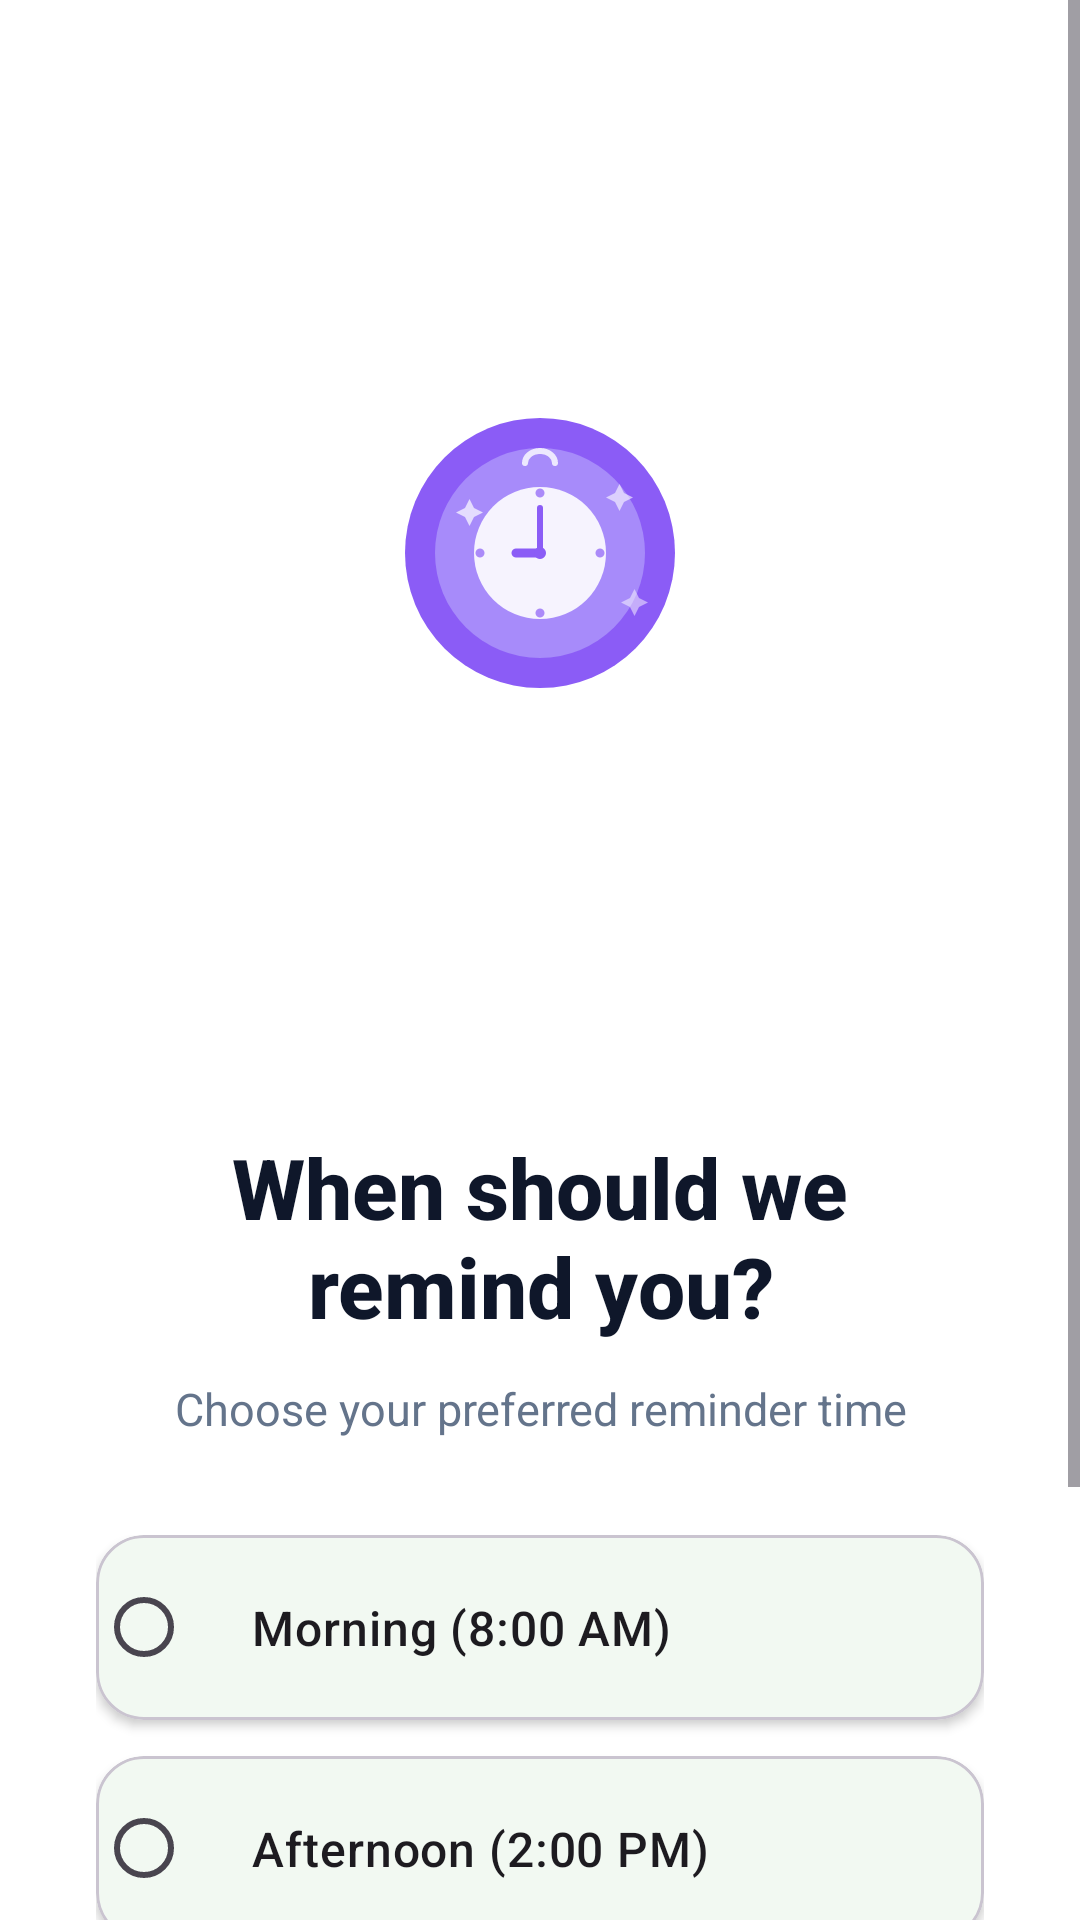

Screen size 1080 × 1920. Icon name, then its center in pixels as (x,y):
Reminder setup illustration: (540,553)
